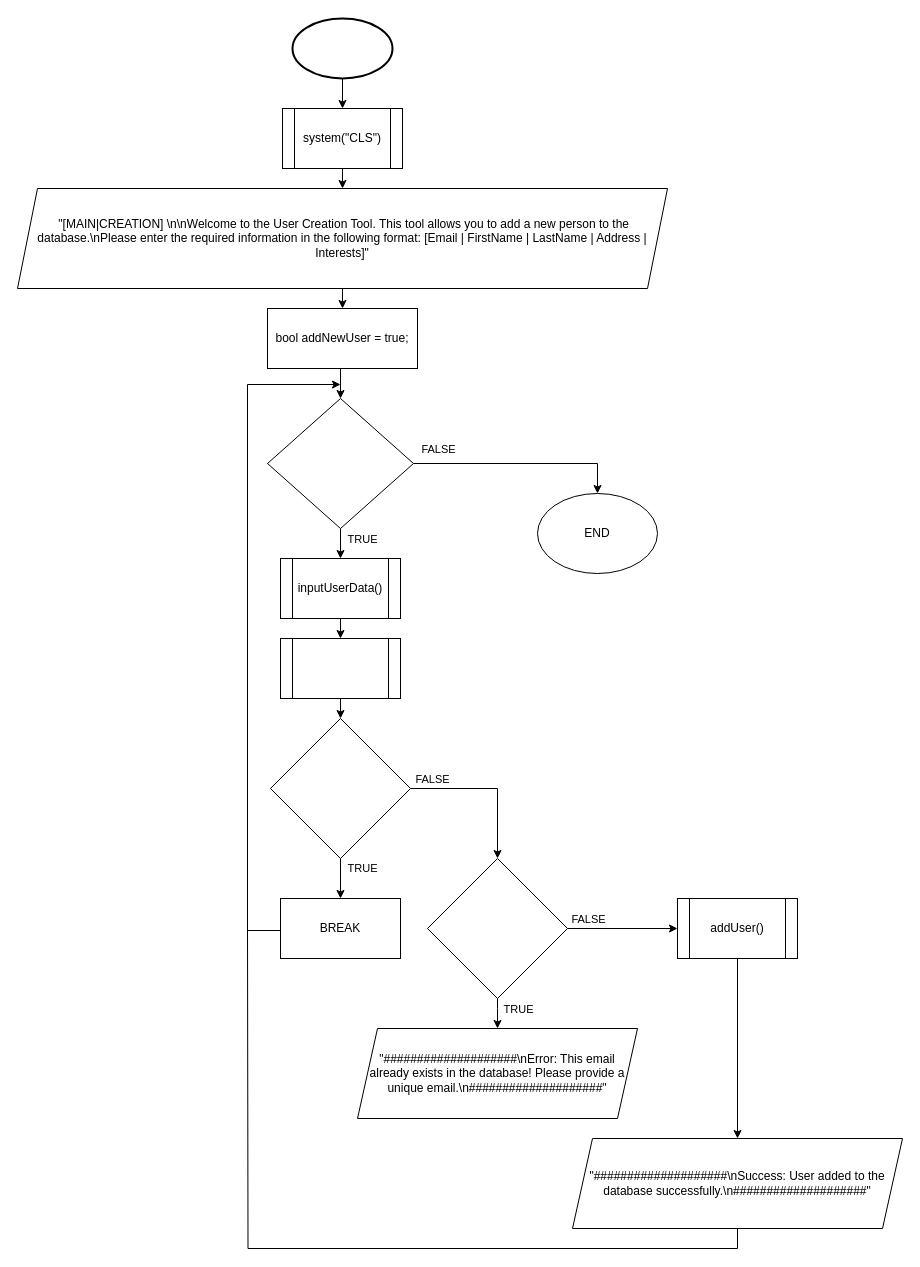
Image size: 920x1267. Some labels were removed from this diagram. The box of each missing label's shape, as (x1, y1, x2, y2) in pixels:
addNewUser == true: (266, 398, 414, 528)
Does "addNewUser" = false?: (270, 718, 410, 858)
Is findUserByEmail(email) = true?: (426, 858, 568, 998)
START: (291, 17, 393, 79)
toLowerCase(): (280, 638, 400, 698)
